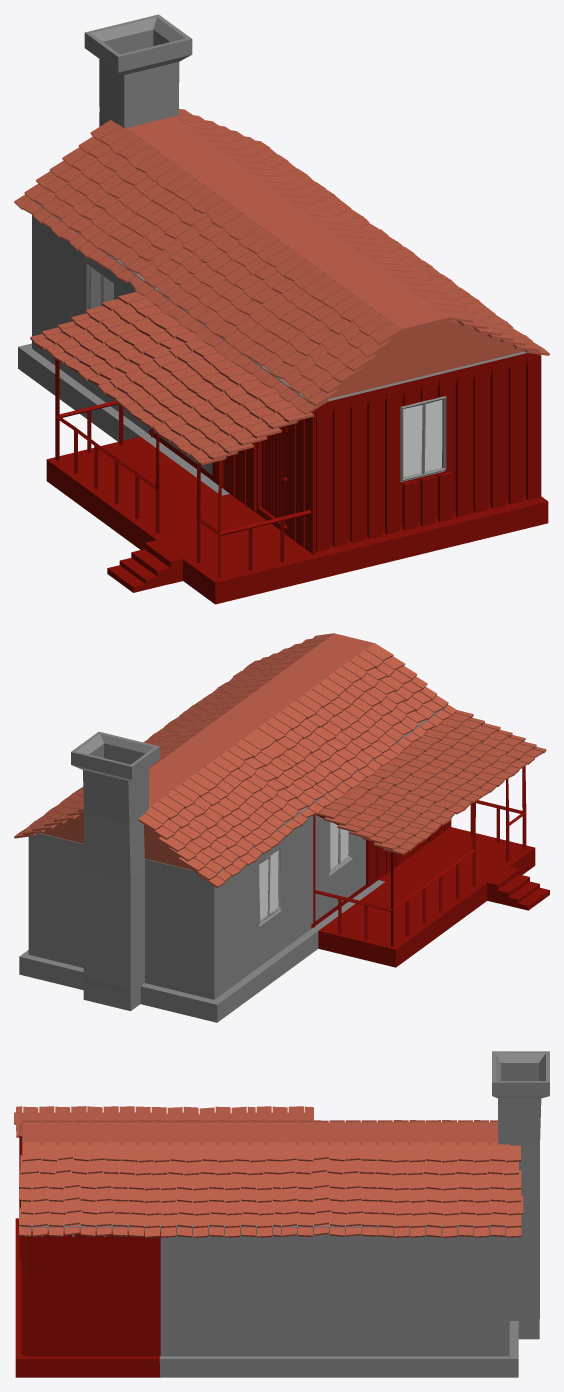
Rendered from KeeperHouse.fbx.
3 views of the same model, one above another, from view 1: azimuth 30°, elevation 25°; view 2: azimuth 150°, elevation 25°; view 3: azimuth 270°, elevation 25° (orthographic). The views are drawn at different scales.
Visible parts, largest first — view 1: Plane.004, Plane.029, Cube.007, Cube, Plane.032, Cube.002, Cube.001, Plane.031, Cube.013, Cube.010, Plane.030, Cube.006; view 2: Cube, Plane.004, Cube.007, Plane.032, Cube.002, Plane.031, Cube.013, Cube.001, Plane.029, Cube.008, Cube.009; view 3: Cube, Plane.004, Plane.029, Cube.007, Cube.002, Plane.032, Cube.001.
Boxes of the visible parts, left/top/right/bottom form: Plane.004: left=14, top=109, right=549, bottom=414; Plane.029: left=212, top=354, right=541, bottom=554; Cube.007: left=18, top=343, right=548, bottom=604; Cube: left=32, top=14, right=538, bottom=547; Plane.032: left=30, top=291, right=313, bottom=465; Cube.002: left=127, top=116, right=449, bottom=331; Cube.001: left=328, top=320, right=524, bottom=399; Plane.031: left=55, top=359, right=315, bottom=577; Cube.013: left=107, top=539, right=183, bottom=592; Cube.010: left=403, top=399, right=442, bottom=476; Plane.030: left=261, top=430, right=287, bottom=525; Cube.006: left=400, top=396, right=446, bottom=481; Cube: left=28, top=705, right=447, bottom=1011; Plane.004: left=14, top=633, right=456, bottom=887; Cube.007: left=19, top=827, right=535, bottom=1022; Plane.032: left=315, top=710, right=546, bottom=854; Cube.002: left=149, top=633, right=373, bottom=807; Plane.031: left=313, top=766, right=526, bottom=946; Cube.013: left=487, top=866, right=549, bottom=910; Cube.001: left=40, top=814, right=190, bottom=869; Plane.029: left=366, top=819, right=451, bottom=887; Cube.008: left=259, top=850, right=278, bottom=920; Cube.009: left=330, top=822, right=348, bottom=868; Cube: left=22, top=1051, right=549, bottom=1356; Plane.004: left=19, top=1120, right=523, bottom=1237; Plane.029: left=19, top=1136, right=160, bottom=1354; Cube.007: left=15, top=1218, right=518, bottom=1377; Cube.002: left=23, top=1122, right=505, bottom=1144; Plane.032: left=14, top=1106, right=313, bottom=1137; Cube.001: left=31, top=1145, right=508, bottom=1224.
Size of the model in its own units: 1723 by 1278 by 2378.
